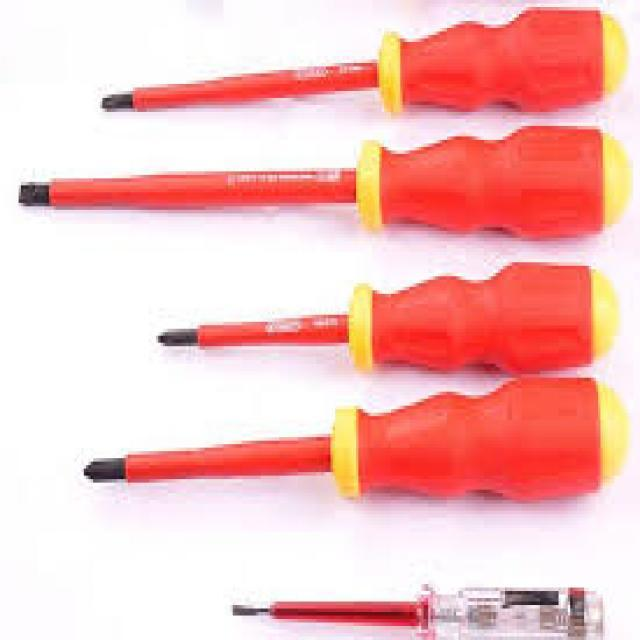screwdriver: (14, 115, 636, 245), (72, 374, 628, 507), (98, 2, 630, 114), (148, 258, 618, 374), (220, 577, 609, 640)
